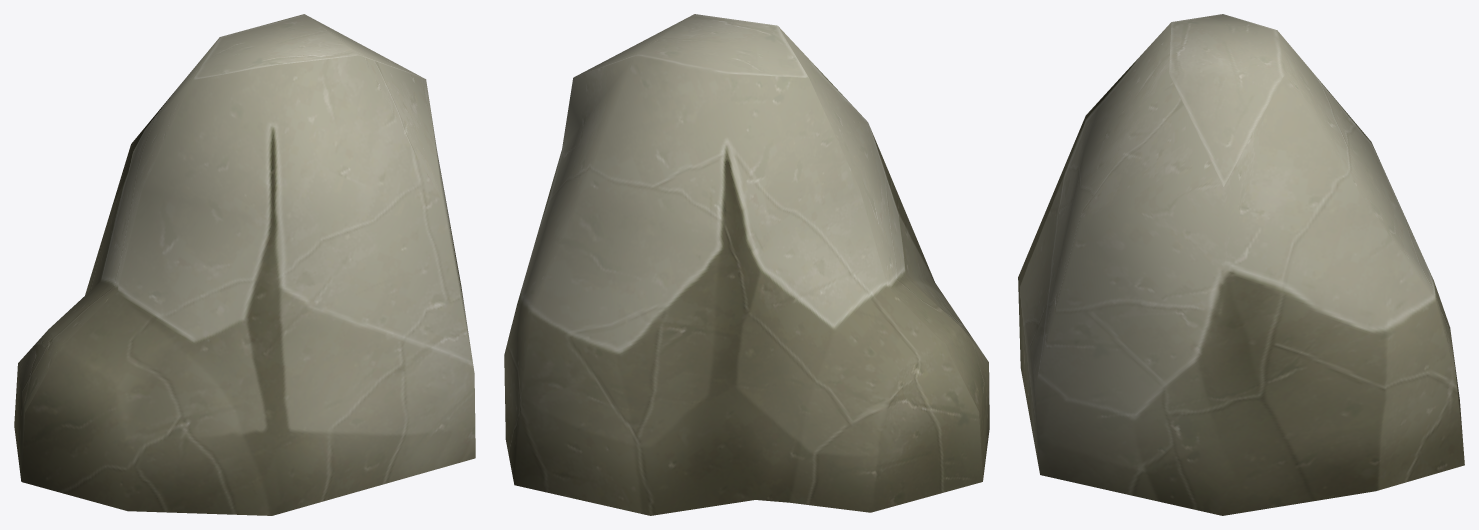
File: ston_001.fbx
3 renders of one model, left to right at view 1: azimuth 30°, elevation 25°; view 2: azimuth 150°, elevation 25°; view 3: azimuth 270°, elevation 25°, orthographic.
Parts seen in each view (by area): view 1: pSphere1; view 2: pSphere1; view 3: pSphere1.
Part boxes in pixels (x1,y1,x2,y2): pSphere1: [14, 14, 475, 515]; pSphere1: [504, 14, 989, 515]; pSphere1: [1018, 14, 1464, 515].
Bounding box in the file's own units: 100 × 85.32 × 81.17.
